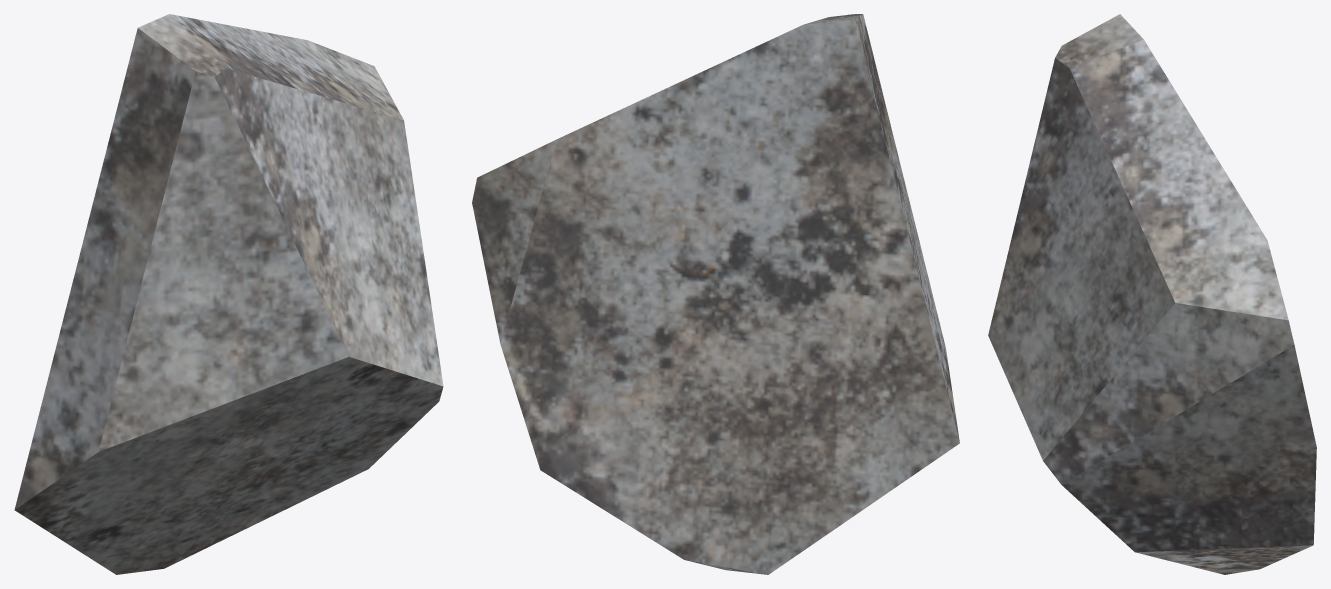
Rendered from Asteroid_Large_001_02_012_03_002.fbx.
3 renders of one model, left to right at view 1: azimuth 30°, elevation 25°; view 2: azimuth 150°, elevation 25°; view 3: azimuth 270°, elevation 25°, orthographic. The views are drawn at different scales.
Visible parts, largest first — view 1: Asteroid_Large_001_02_012_03_002; view 2: Asteroid_Large_001_02_012_03_002; view 3: Asteroid_Large_001_02_012_03_002.
Part boxes in pixels (x1,y1,x2,y2): Asteroid_Large_001_02_012_03_002: (14, 14, 443, 574); Asteroid_Large_001_02_012_03_002: (472, 14, 959, 574); Asteroid_Large_001_02_012_03_002: (988, 14, 1316, 574).
Size of the model in its own units: 7.41 by 9.37 by 5.33.
